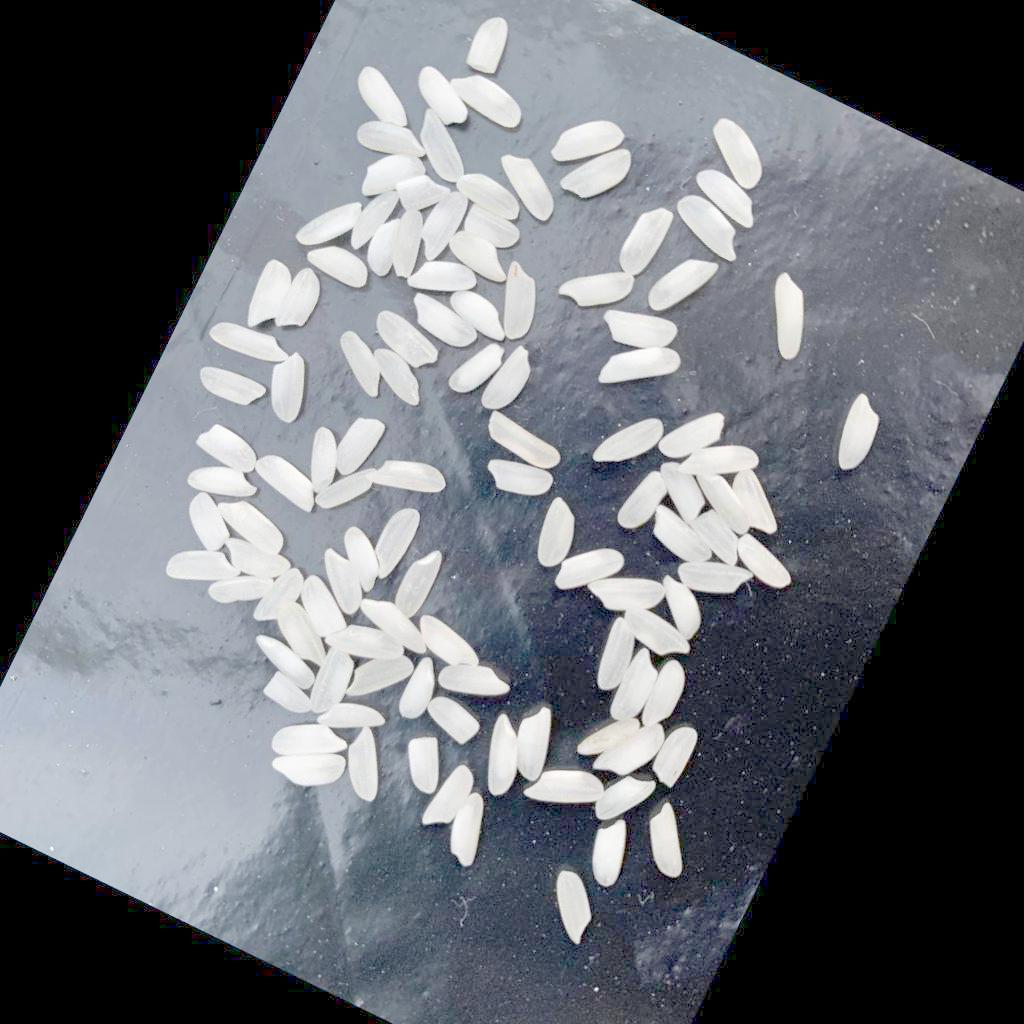rice: (598, 325, 686, 411), (749, 270, 829, 362), (592, 707, 671, 793), (523, 750, 611, 827), (559, 130, 639, 213), (678, 424, 764, 501), (645, 243, 722, 328), (486, 148, 571, 225), (667, 190, 755, 264), (697, 115, 780, 193), (469, 712, 541, 801), (632, 798, 709, 881), (593, 401, 669, 483), (583, 556, 668, 629), (270, 707, 355, 780), (550, 105, 629, 183), (405, 108, 484, 186), (482, 261, 554, 345), (553, 531, 630, 609), (366, 444, 452, 513), (269, 729, 351, 801), (332, 723, 404, 805), (164, 534, 247, 605), (597, 294, 681, 364), (344, 640, 419, 718), (657, 395, 731, 474), (558, 250, 638, 323), (444, 66, 531, 133), (353, 590, 441, 656), (480, 409, 568, 475), (826, 391, 893, 477), (684, 467, 766, 537), (324, 610, 409, 677), (209, 492, 294, 559), (537, 868, 609, 946), (501, 701, 569, 783), (642, 504, 724, 572), (720, 466, 797, 538), (674, 543, 755, 611), (266, 599, 343, 670), (295, 185, 366, 262), (256, 347, 324, 427), (357, 141, 430, 215), (366, 308, 447, 374), (207, 311, 293, 373), (616, 601, 698, 666), (288, 573, 362, 645), (346, 64, 424, 132), (436, 649, 516, 714), (248, 448, 328, 513), (688, 165, 768, 230), (408, 612, 489, 676), (325, 329, 399, 399), (586, 615, 649, 696), (440, 790, 503, 871), (404, 291, 485, 354), (406, 65, 481, 133), (479, 339, 542, 419), (591, 763, 659, 837), (615, 200, 677, 281), (607, 647, 668, 729), (365, 502, 426, 584), (526, 495, 589, 574), (354, 110, 433, 173), (307, 548, 378, 618), (244, 631, 324, 693), (412, 185, 473, 266), (578, 813, 642, 890), (644, 458, 715, 527), (327, 524, 396, 594), (313, 450, 379, 523), (645, 576, 715, 644), (577, 702, 644, 772), (682, 503, 754, 568), (389, 543, 448, 622), (727, 531, 802, 593), (186, 454, 262, 515), (207, 556, 277, 622), (218, 531, 295, 590), (239, 258, 298, 335), (447, 333, 510, 405), (362, 344, 434, 407), (483, 448, 557, 509), (328, 410, 389, 484), (378, 207, 438, 282), (304, 646, 363, 722), (443, 227, 519, 286), (614, 464, 674, 538), (176, 490, 242, 557), (422, 760, 480, 836), (317, 690, 389, 751), (293, 426, 353, 498), (393, 729, 456, 797), (638, 658, 694, 734), (444, 285, 517, 343), (195, 419, 266, 478), (347, 182, 402, 258), (195, 359, 269, 415), (253, 560, 310, 632), (274, 265, 330, 338), (420, 691, 487, 749), (649, 721, 704, 791), (461, 11, 518, 78), (389, 166, 453, 225), (396, 655, 447, 724), (360, 214, 412, 280), (461, 203, 525, 255), (261, 670, 320, 720)
